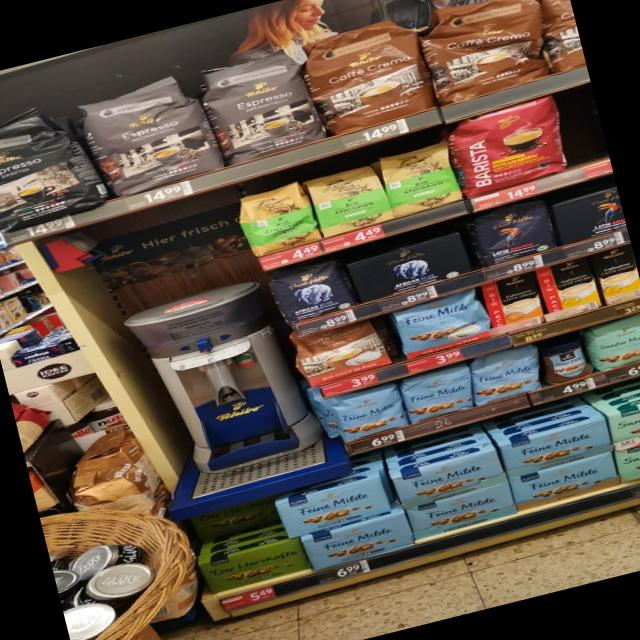AB Bohne: (265, 262, 361, 328)
AB Gemahlen: (343, 228, 479, 304)
Athiopien Bohne: (230, 177, 328, 262)
Athiopien Gemahlen: (302, 158, 398, 240), (374, 140, 464, 220)
Barista Kolumbien: (441, 93, 575, 201)
CC Vollmundig: (286, 317, 401, 390)
CC Vollmundig 36 Pads: (292, 9, 442, 141), (407, 0, 558, 108)
Espresso Aromatisch: (59, 67, 229, 202), (187, 44, 337, 168)
Espresso Kraftig: (0, 101, 122, 240)
FM 36 Pads: (387, 286, 497, 362)
FM Bohne: (326, 380, 414, 446), (396, 362, 482, 428), (464, 341, 547, 406)
FM Gemahlen: (270, 472, 394, 540), (504, 449, 626, 514), (388, 446, 510, 510), (298, 509, 418, 573), (498, 416, 618, 478), (405, 481, 521, 541)
FM Instant: (534, 336, 596, 388)
Herzhatfe Mundig: (194, 536, 313, 597)
LG Bohne: (461, 195, 564, 269)
SM Bohne: (581, 310, 640, 372)
Simo CCMild: (536, 256, 606, 322)
Simo CCMild bigpack: (590, 244, 640, 307)
Simo CCVollmundig: (480, 270, 548, 336)
